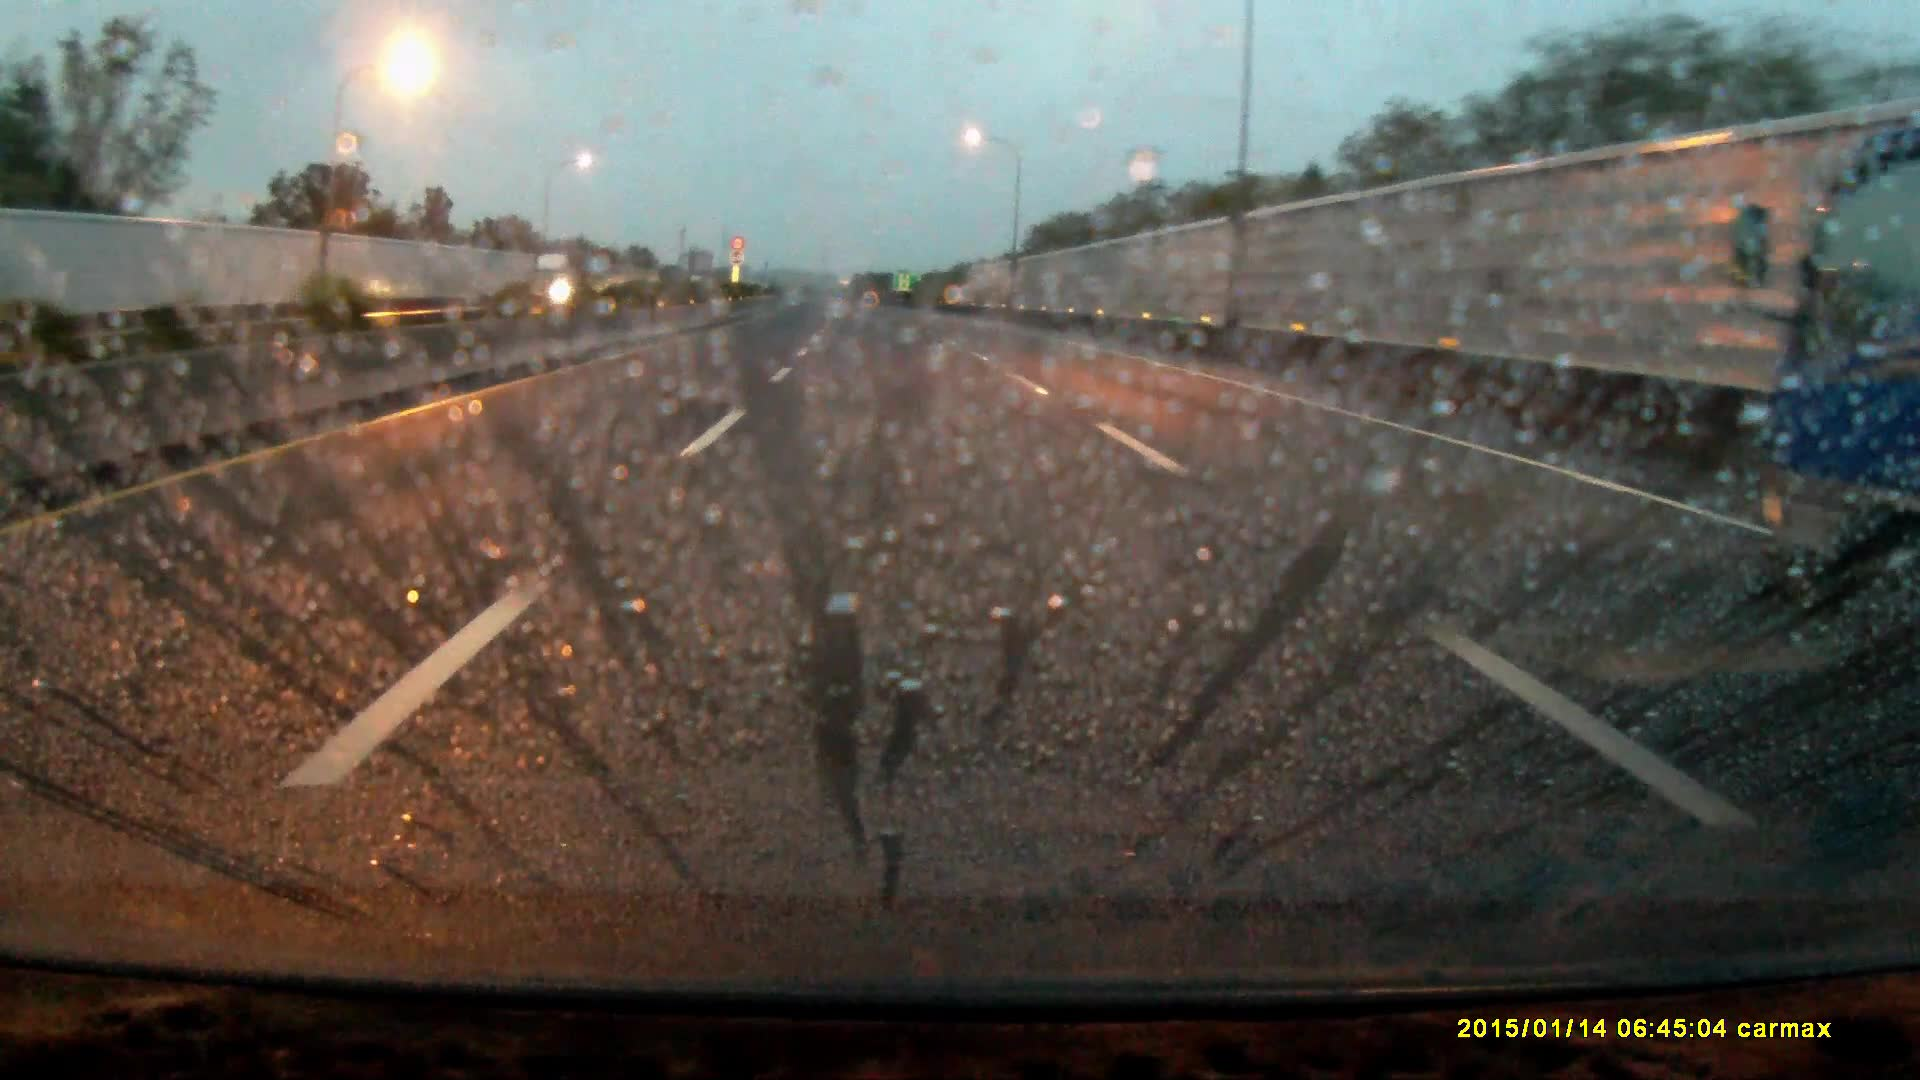vehicle: (527, 257, 584, 311)
